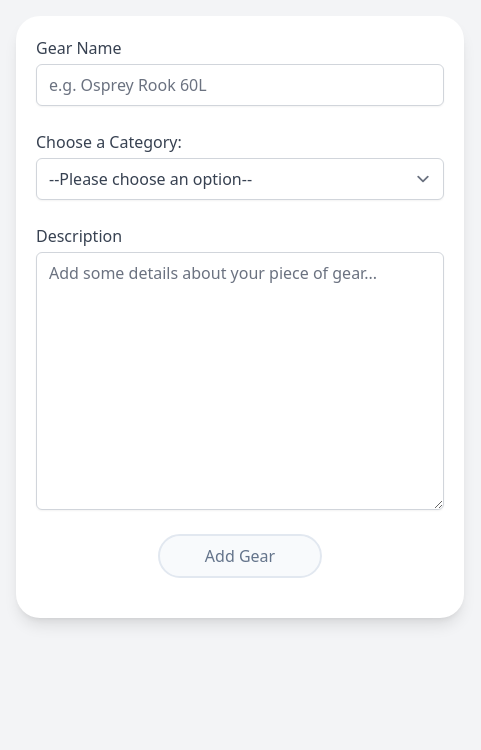
it: GearForm tests › Display error messages › should render an error message if invalid character in description input
The width and height of the screenshot is (481, 750).
Type "Ü" into the text box with placeholder "Add some details about your piece of gear...". click: (240, 381)
box: [36,252,444,510]
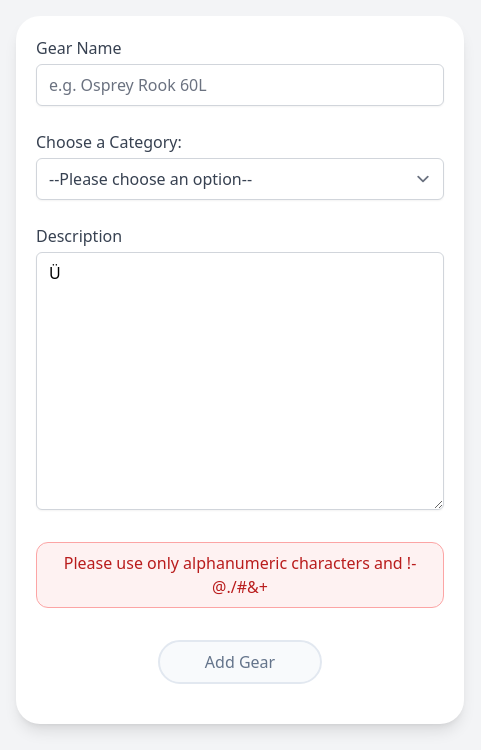
Now the text "Please use only alphanumeric characters and !-@./#&+" is shown, box [36,542,444,608]
